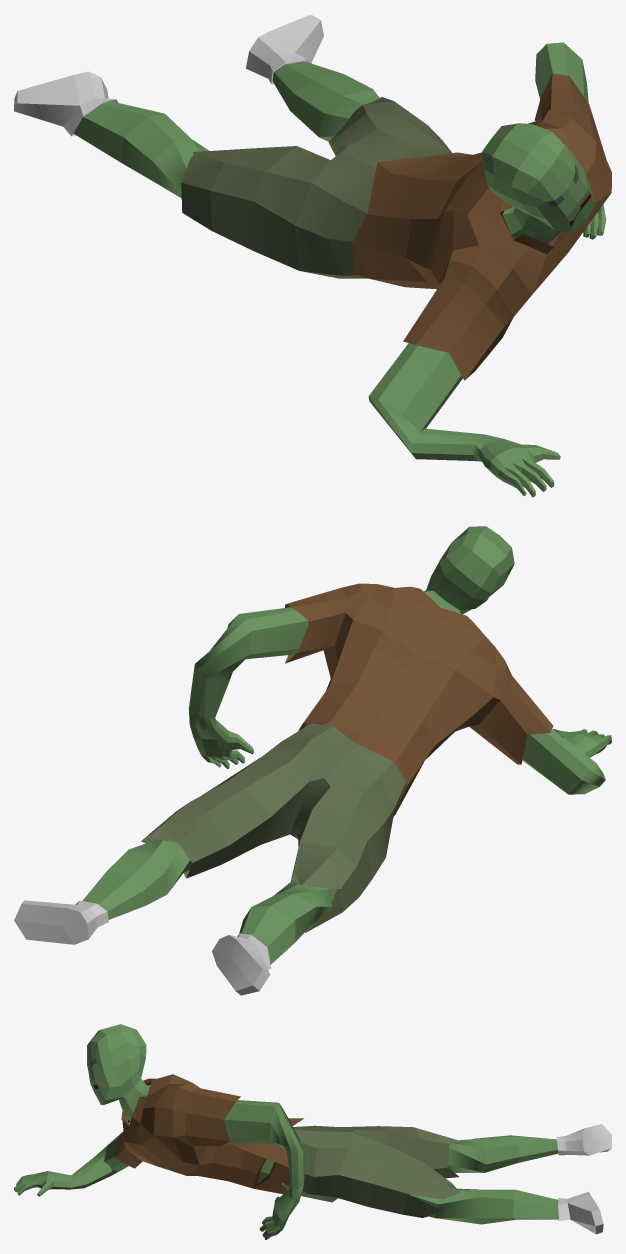
The model's file is ZombieCrawl(19).obj.
3 views of the same model, one above another, from view 1: azimuth 30°, elevation 25°; view 2: azimuth 150°, elevation 25°; view 3: azimuth 270°, elevation 25° (orthographic). The views are drawn at different scales.
Visible parts, largest first — view 1: Object001; view 2: Object001; view 3: Object001.
Boxes of the visible parts, x1=… form: Object001: x1=14, y1=14, x2=611, y2=497; Object001: x1=14, y1=526, x2=611, y2=995; Object001: x1=14, y1=1024, x2=611, y2=1239.
Size of the model in its own units: 28.14 by 22.57 by 65.13.
